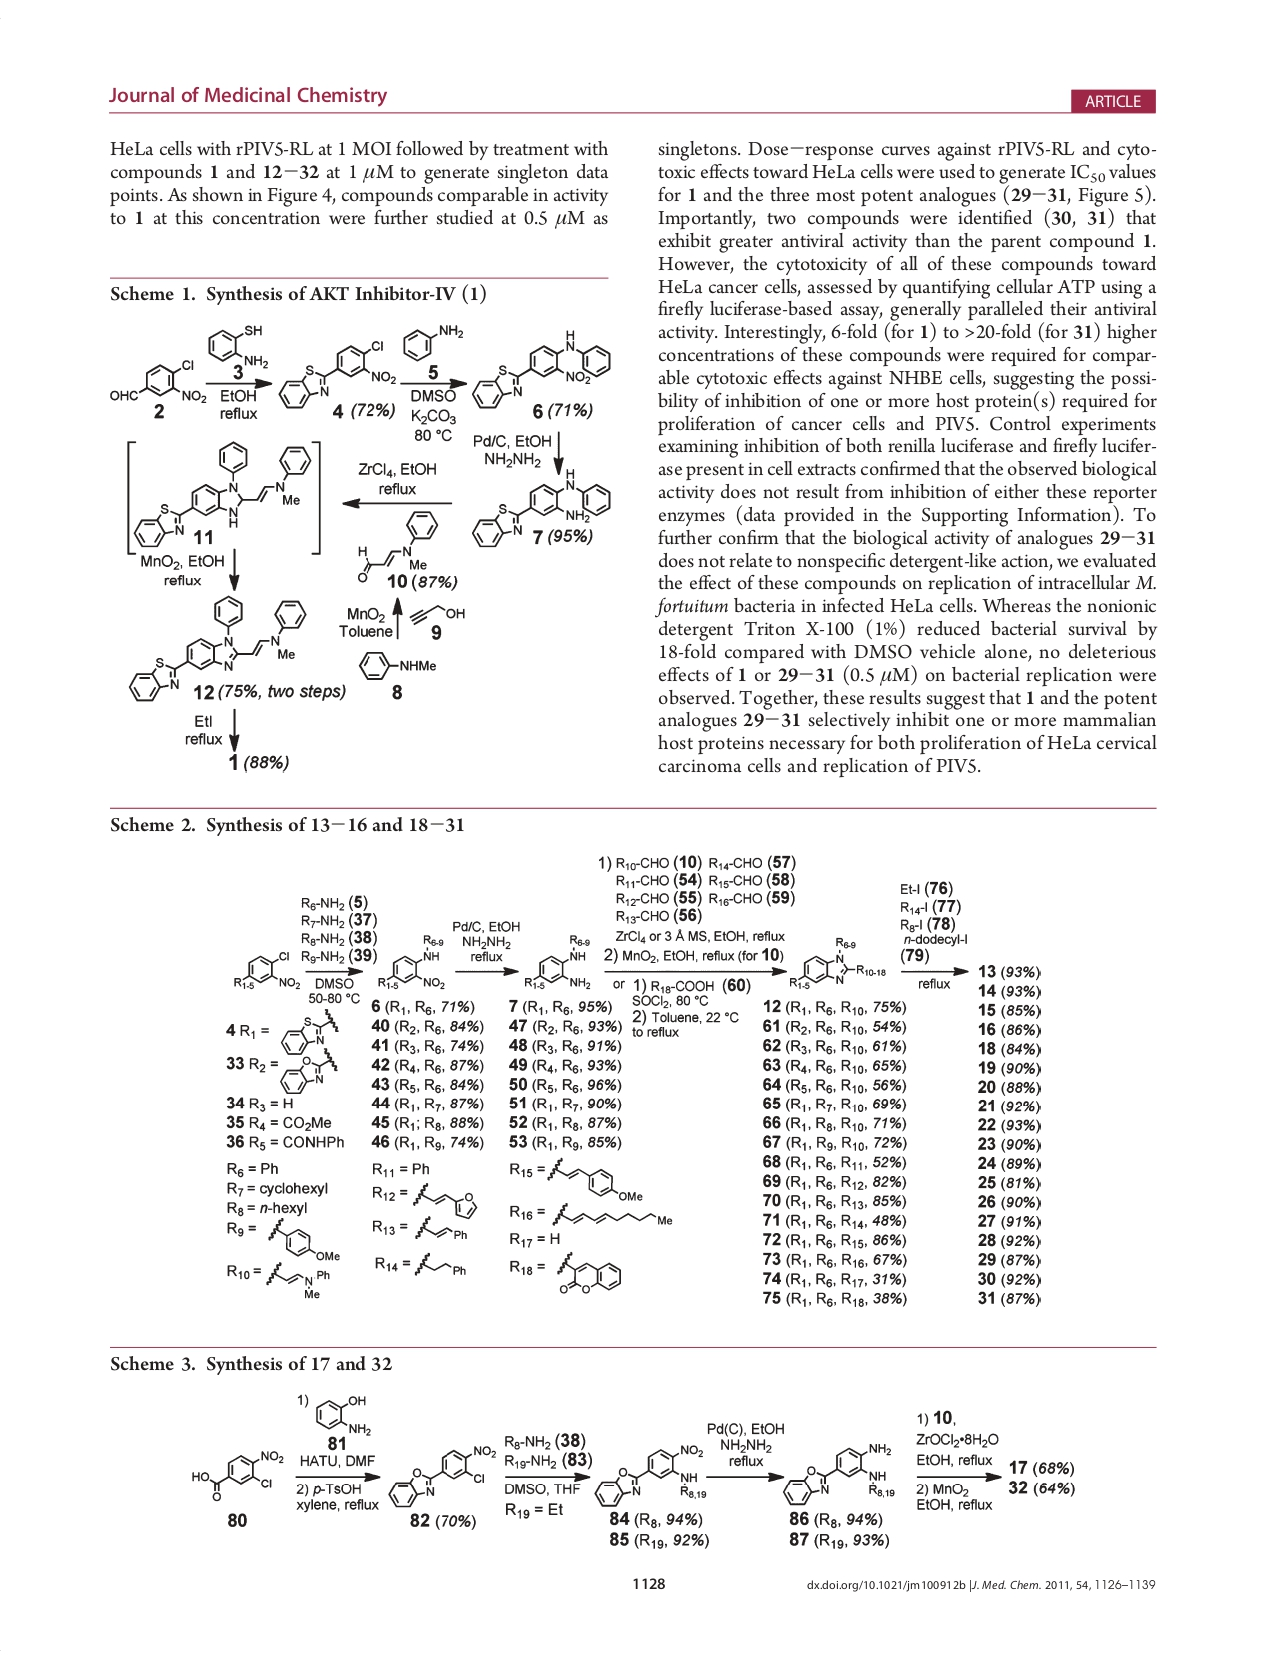exist_molecular: (132, 439, 313, 549), (128, 594, 309, 704), (471, 328, 614, 411), (469, 468, 612, 548), (275, 338, 398, 412), (781, 1442, 898, 1508), (594, 1444, 707, 1509), (386, 1446, 499, 1509), (355, 509, 439, 582), (789, 936, 888, 993), (108, 356, 209, 410), (190, 1450, 285, 1503), (544, 1157, 648, 1204), (376, 934, 448, 993), (524, 935, 594, 995), (551, 1202, 676, 1233), (265, 1216, 343, 1262), (555, 1247, 622, 1297), (203, 322, 271, 370), (278, 1005, 342, 1055), (231, 950, 301, 993), (277, 1048, 342, 1094), (311, 1392, 374, 1438), (400, 319, 464, 363), (265, 1261, 332, 1301), (356, 648, 438, 681), (412, 1180, 479, 1218), (414, 1214, 469, 1245), (406, 601, 467, 626), (414, 1251, 469, 1277)
